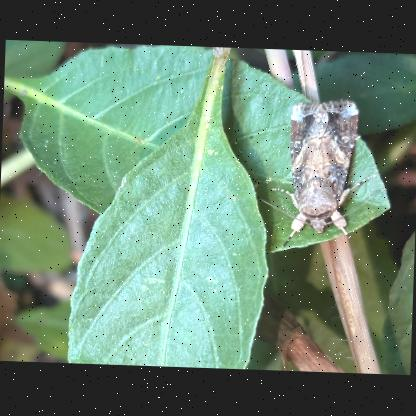Fall Armyworm Moth: (268, 95, 380, 255)
